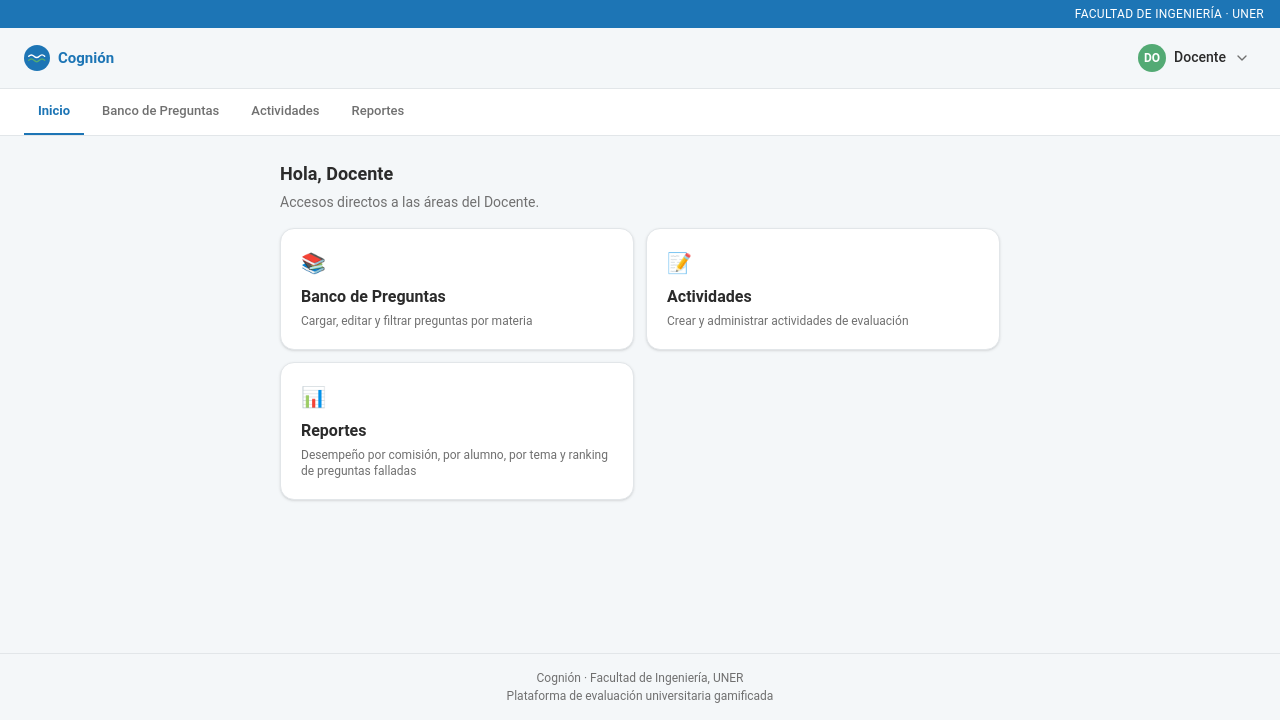
Test: router (integración) › Inicio (US-ADJ-28) › Docente navega de la Home a Actividades por clic en la card
Expected: the heading "Hola, Docente" is shown, [280, 162, 393, 184]
Click the text "Actividades" at (709,296), box [667, 286, 752, 306]
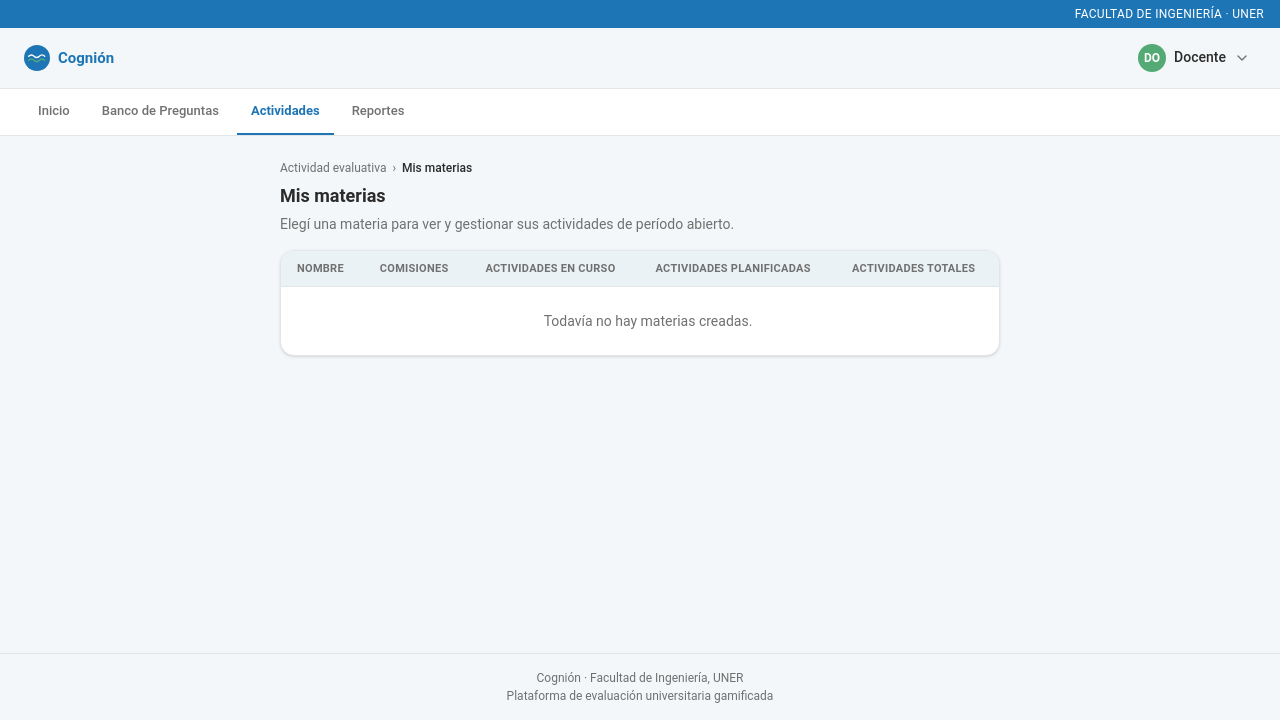
Expected: the heading "Mis materias" is shown, [280, 184, 386, 206]
